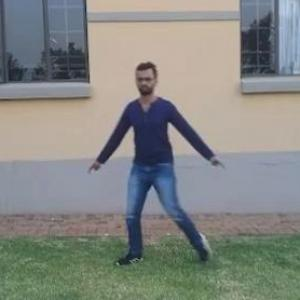land: (89, 69, 220, 252)
